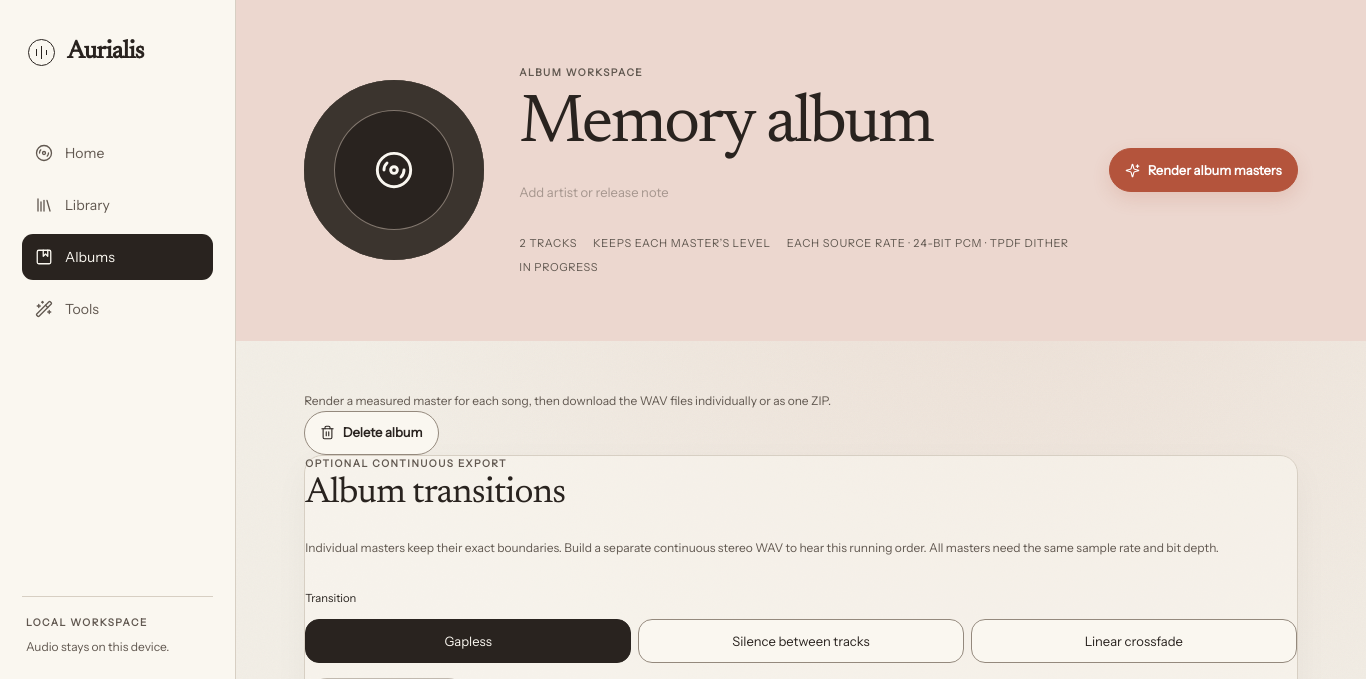
Scenario: surfaces download allocation failure while preserving the already rendered cache
What coordinates should you click on to do the following:
click the button "Render album masters"
I would click on:
 (1203, 170)
Its box is [1109, 148, 1298, 192].
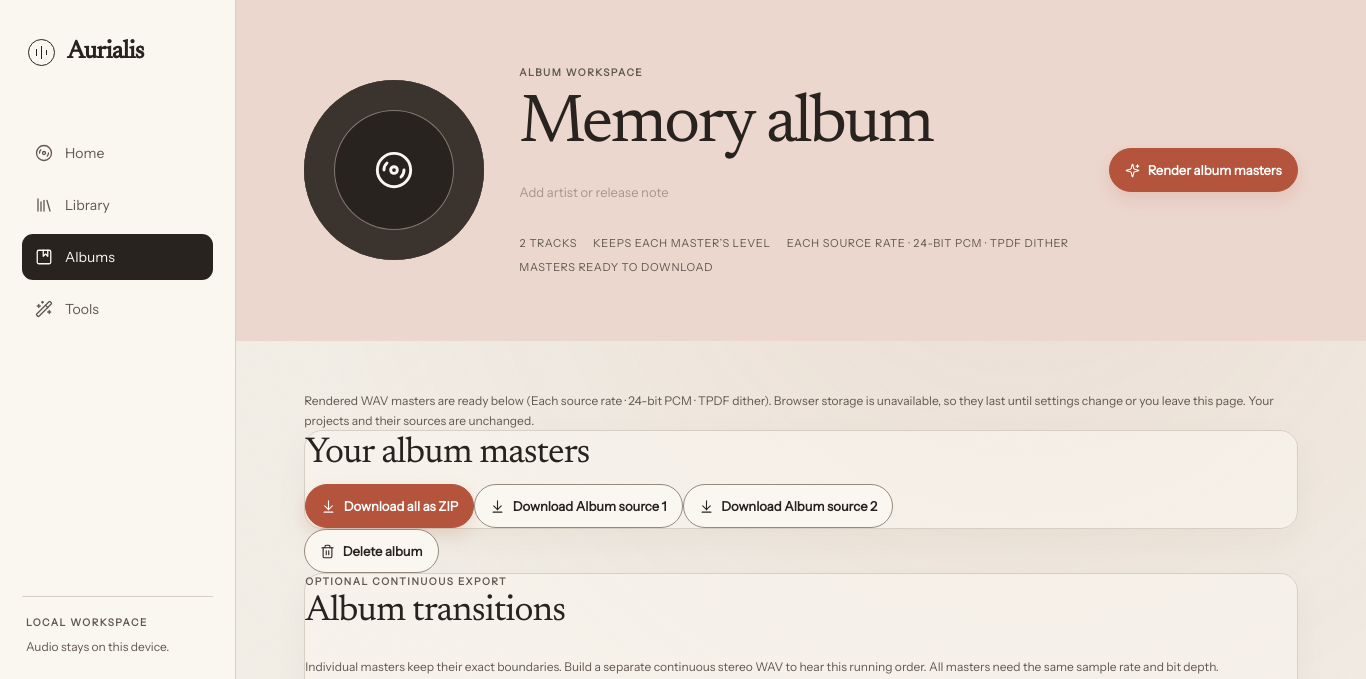
What coordinates should you click on to do the following:
click the button "Download Album source 2"
I would click on:
 (788, 506)
Its box is [683, 484, 893, 528].
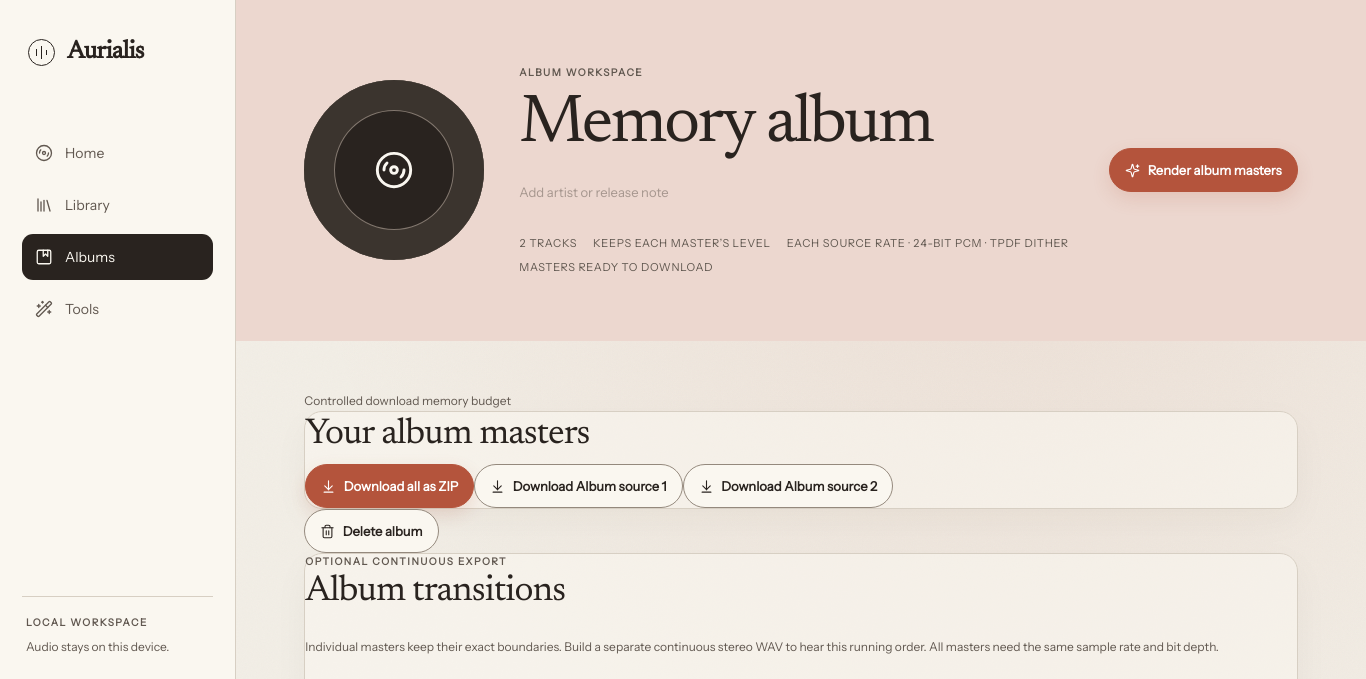
Check: the element named "Rendered album downloads" is shown, box [304, 411, 1298, 510]
Check: the text "Controlled download memory budget" is shown, box [304, 393, 511, 408]
